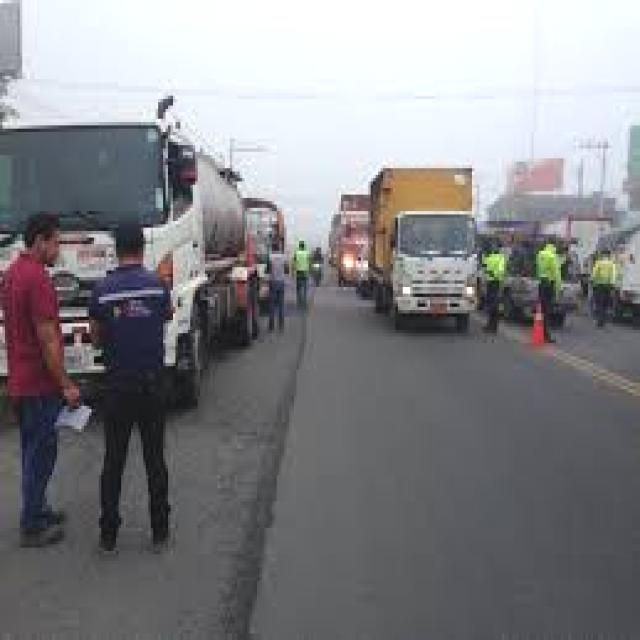TRUCK: (2, 85, 248, 428), (375, 170, 484, 340)
